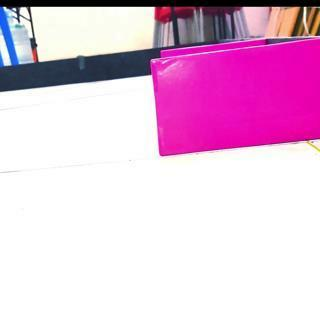xparking: (156, 59, 320, 146)
